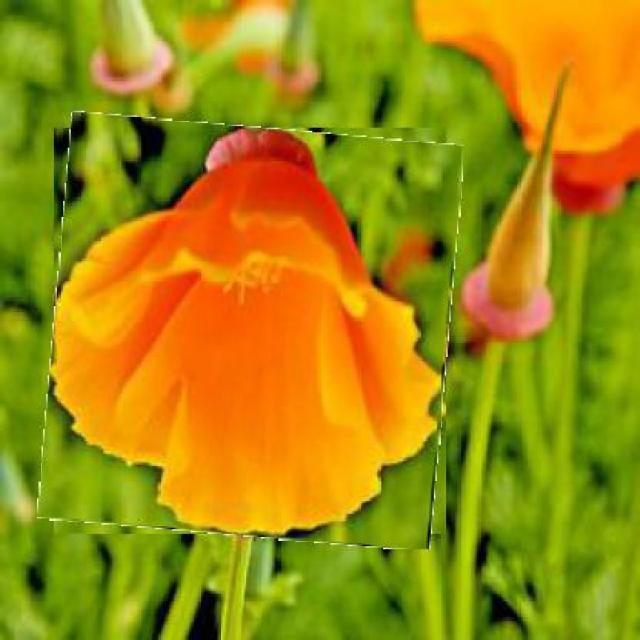Flower: (46, 120, 457, 543)
